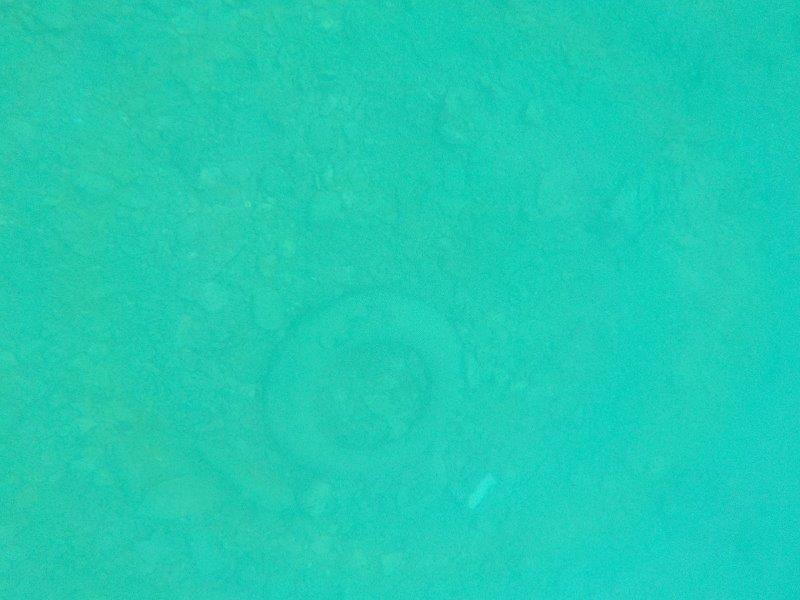tire: (258, 286, 471, 485)
